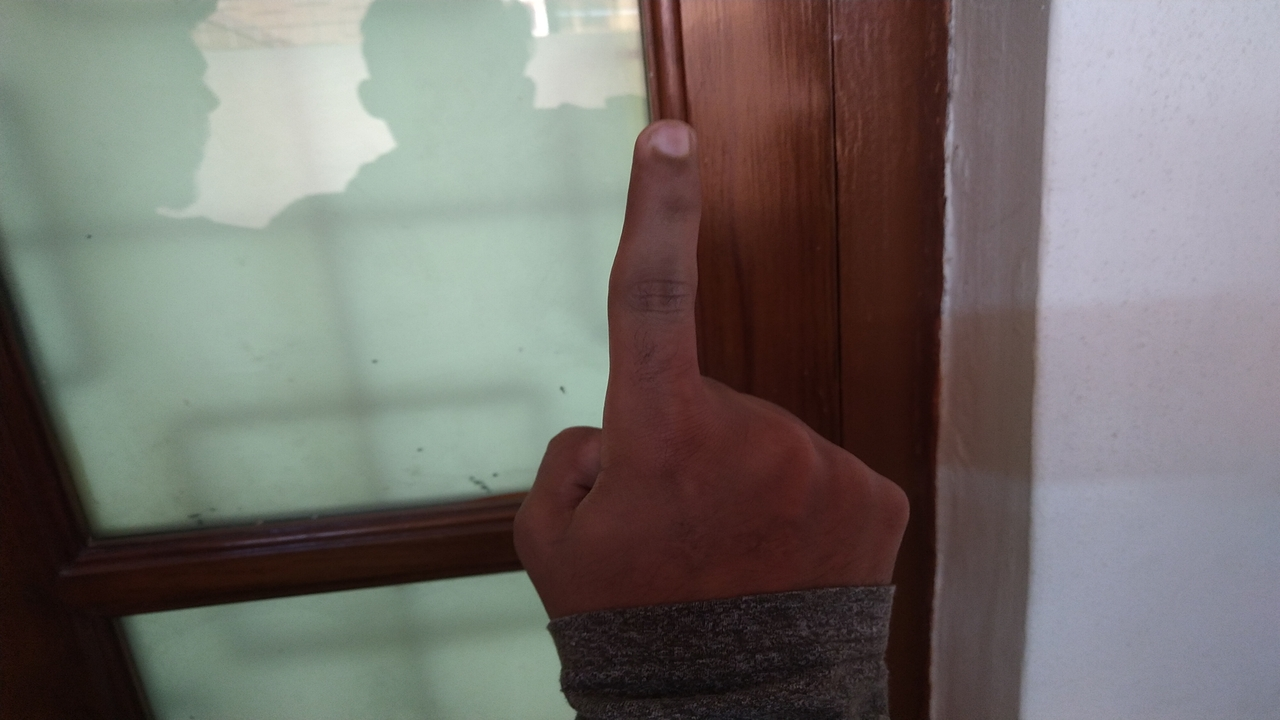fingertip: (626, 116, 702, 174)
